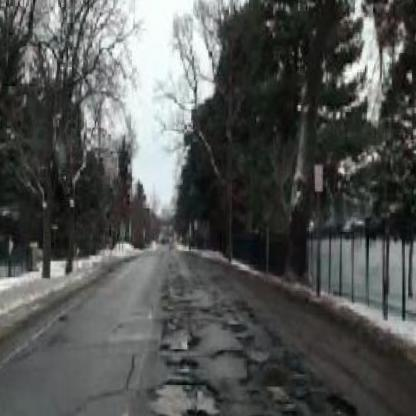pothole: (326, 387, 358, 416), (164, 352, 196, 372), (248, 410, 297, 416), (185, 405, 209, 416)
